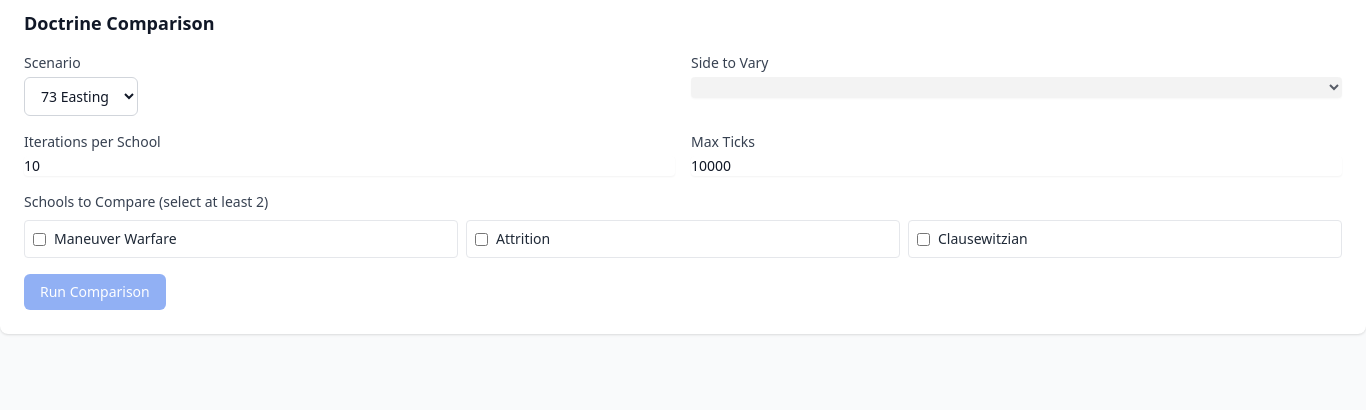
it: DoctrineComparePanel › visibly rejects doctrine evidence whose mapped side is absent at runtime
Expected: the text "Maneuver Warfare" is shown, [54,229,177,249]
Select "73 Easting" in the 1st dropdown at (81, 96), box [24,77,138,116]
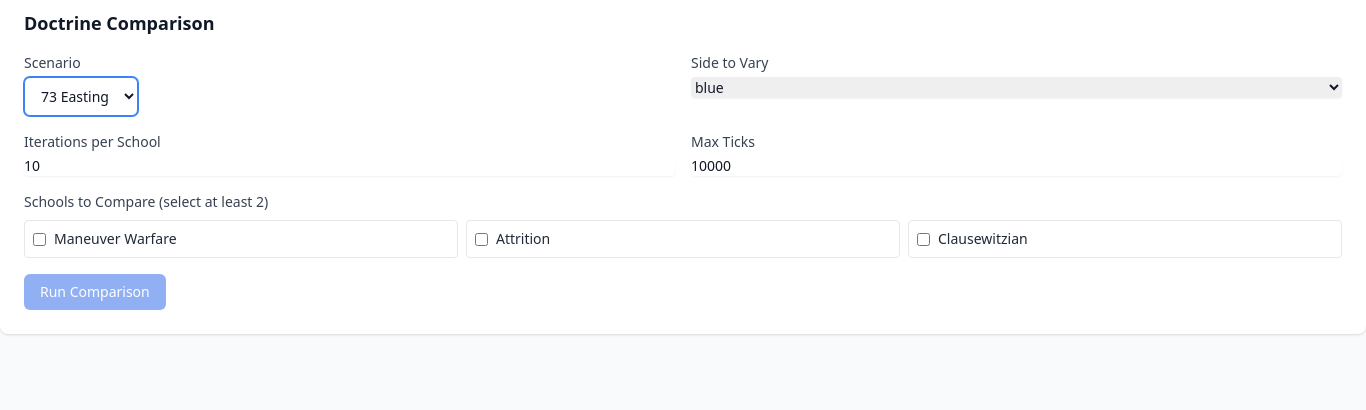
Click the checkbox labelled "Maneuver Warfare" at (40, 239), box [33,232,46,246]
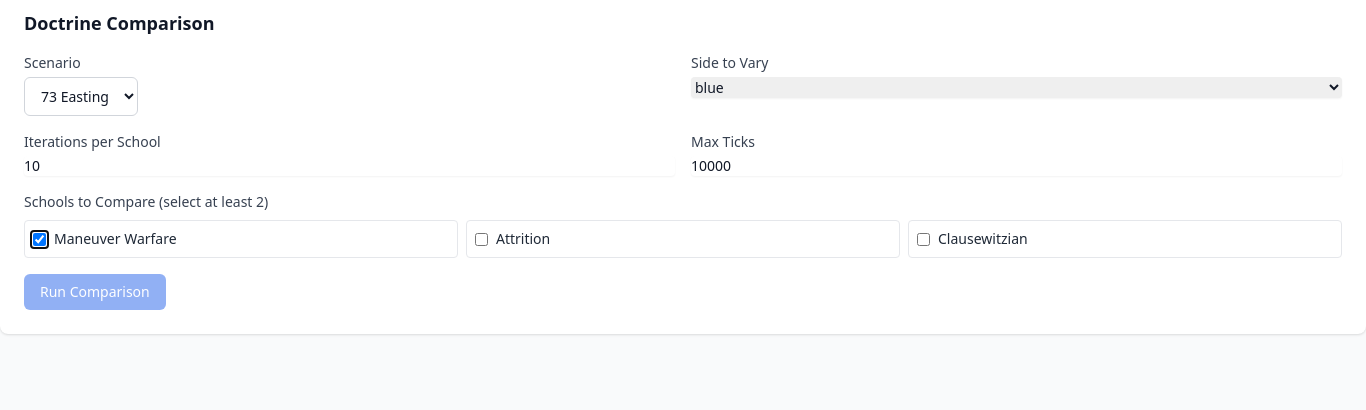
Click the checkbox labelled "Attrition" at (482, 239), box [475,232,488,246]
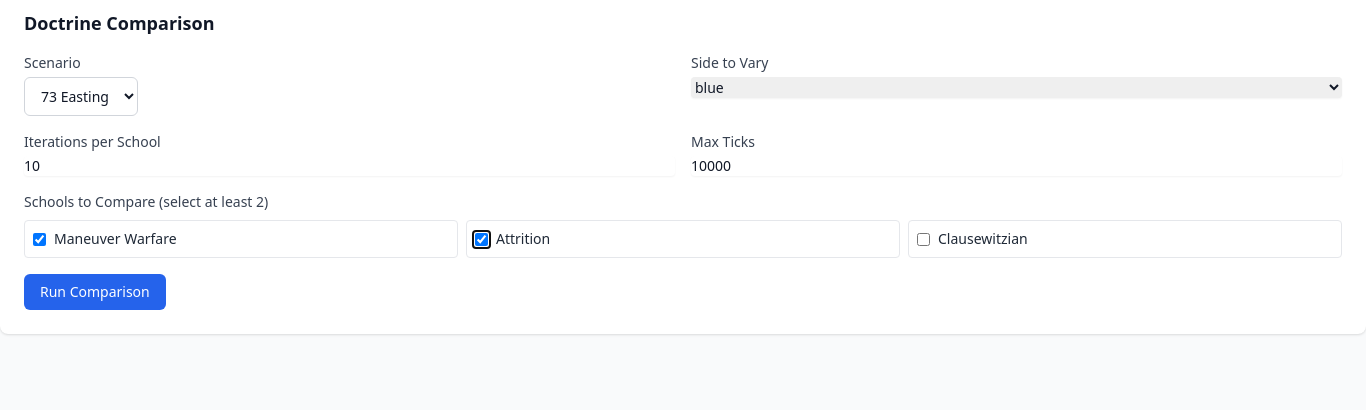
Click the button "Run Comparison" at (95, 292), box [24,274,166,310]
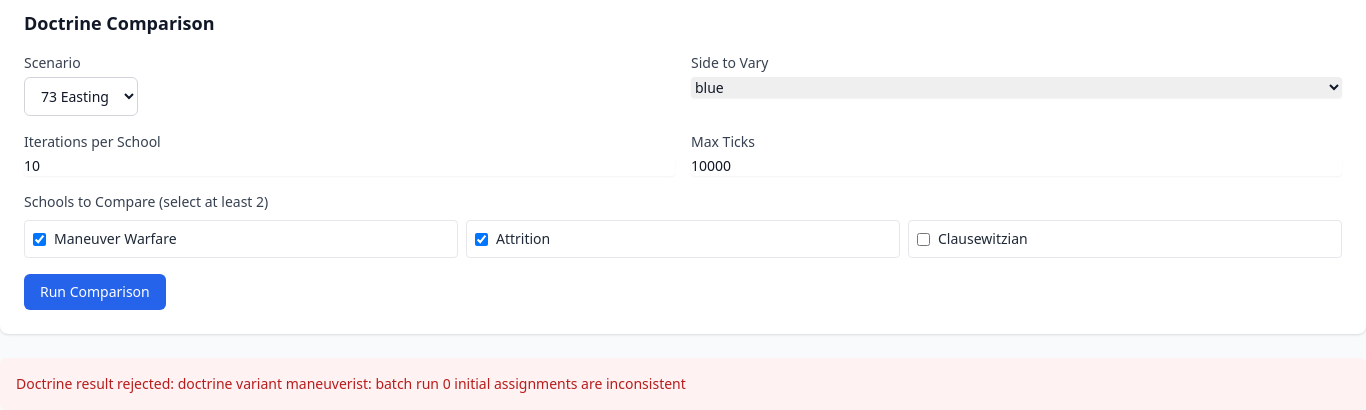
Now the message shows "Doctrine result rejected:", box [16,374,178,393]
